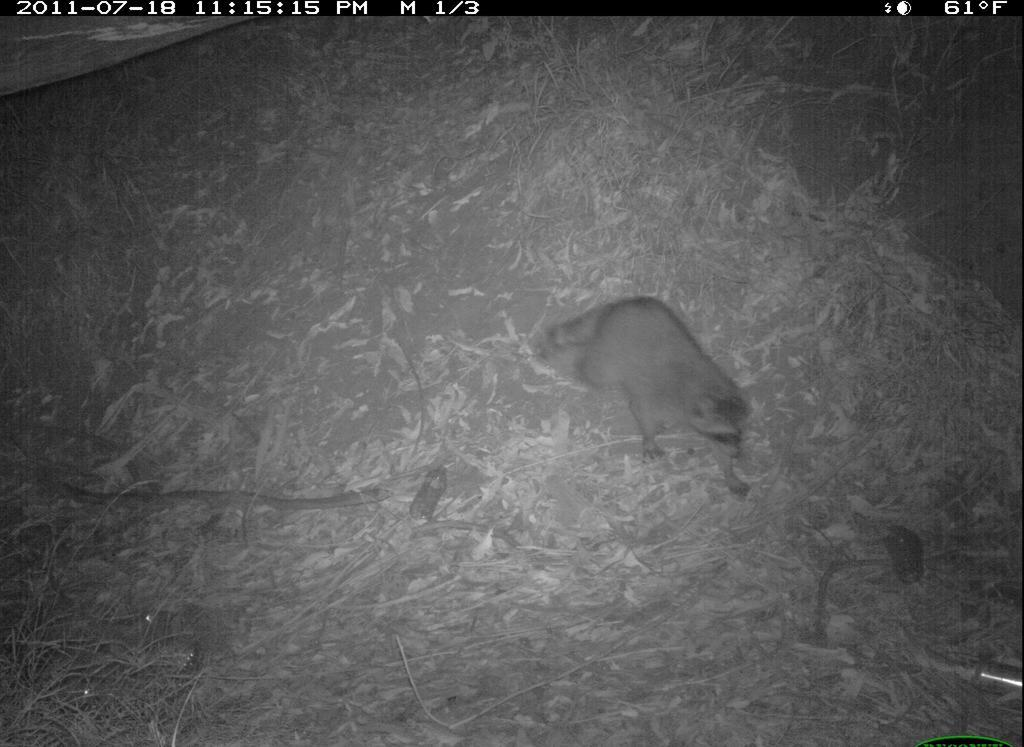raccoon: (518, 285, 770, 509)
